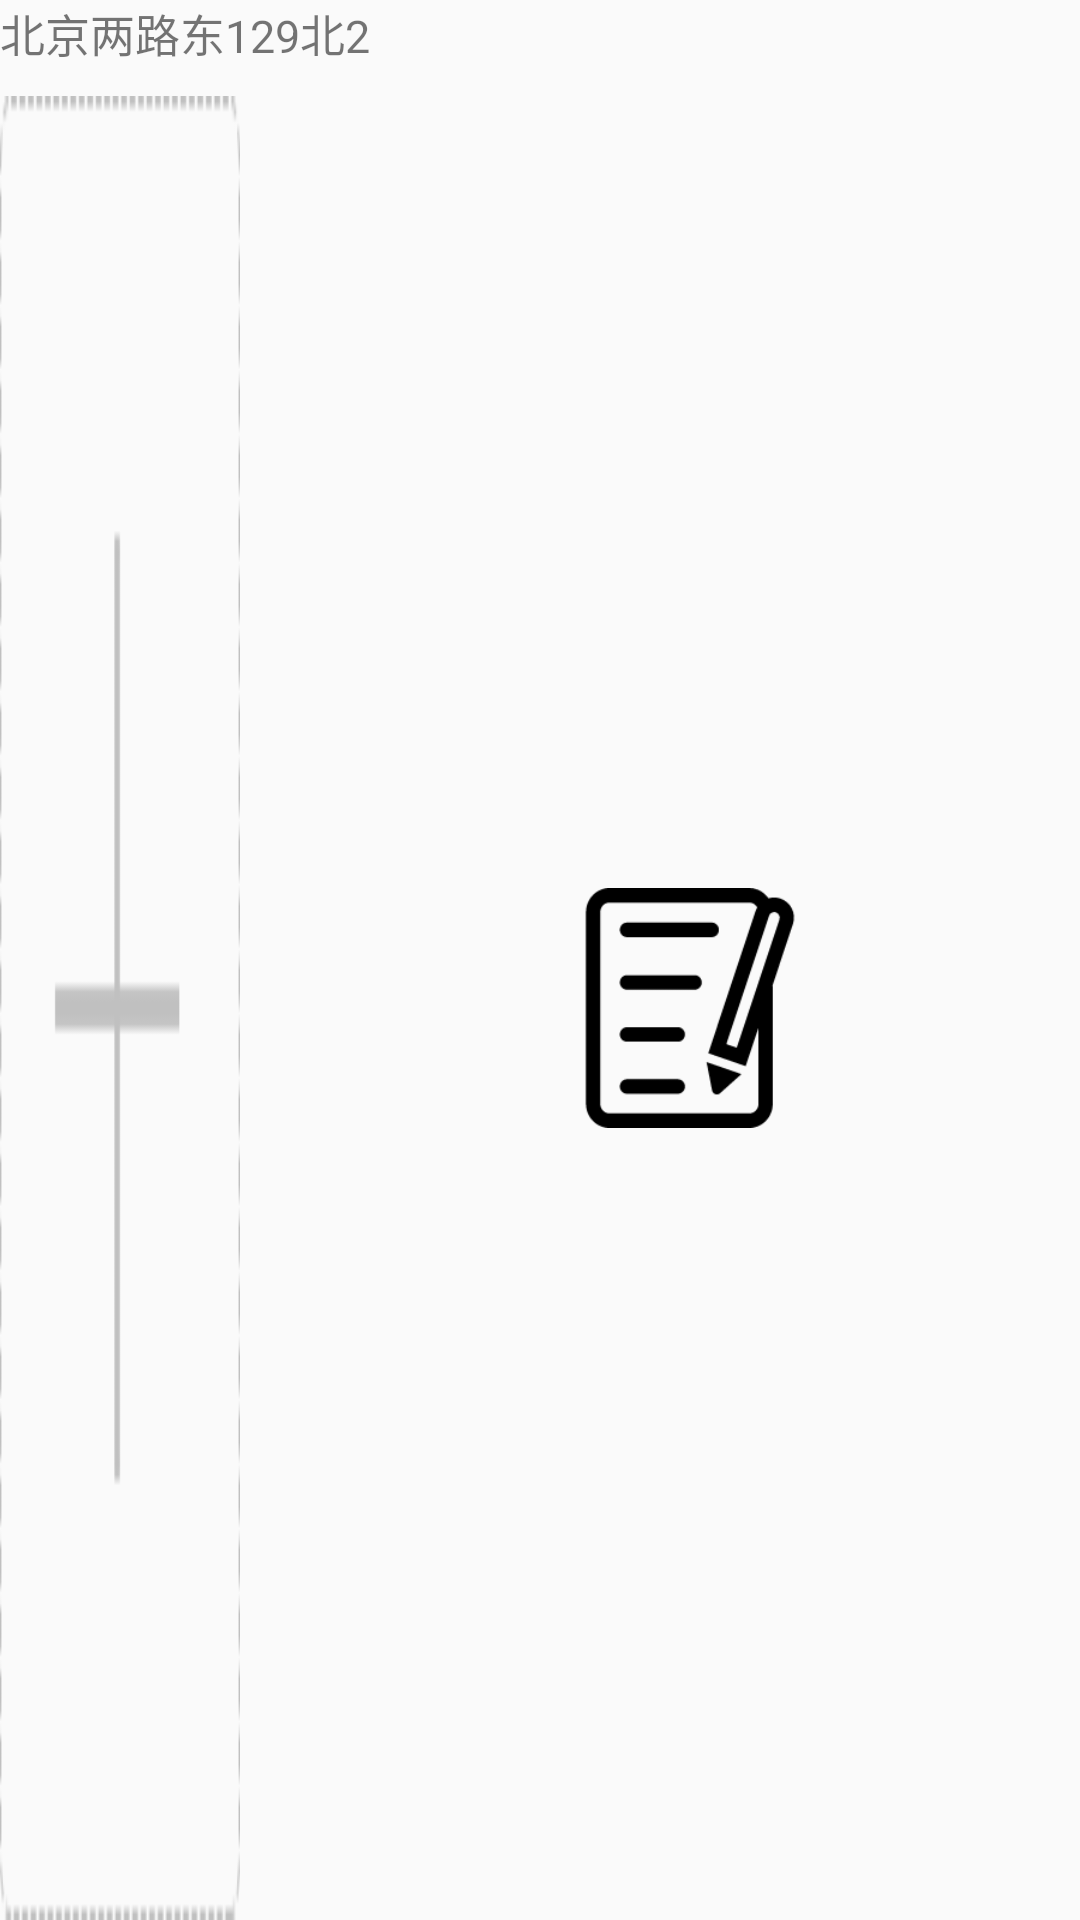

Icons on this 1080px x 1920px Android screen, each with the point to tap as (x=x, y=y):
etid: (x=690, y=1008)
